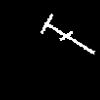double_crochet: (41, 14, 94, 53)
